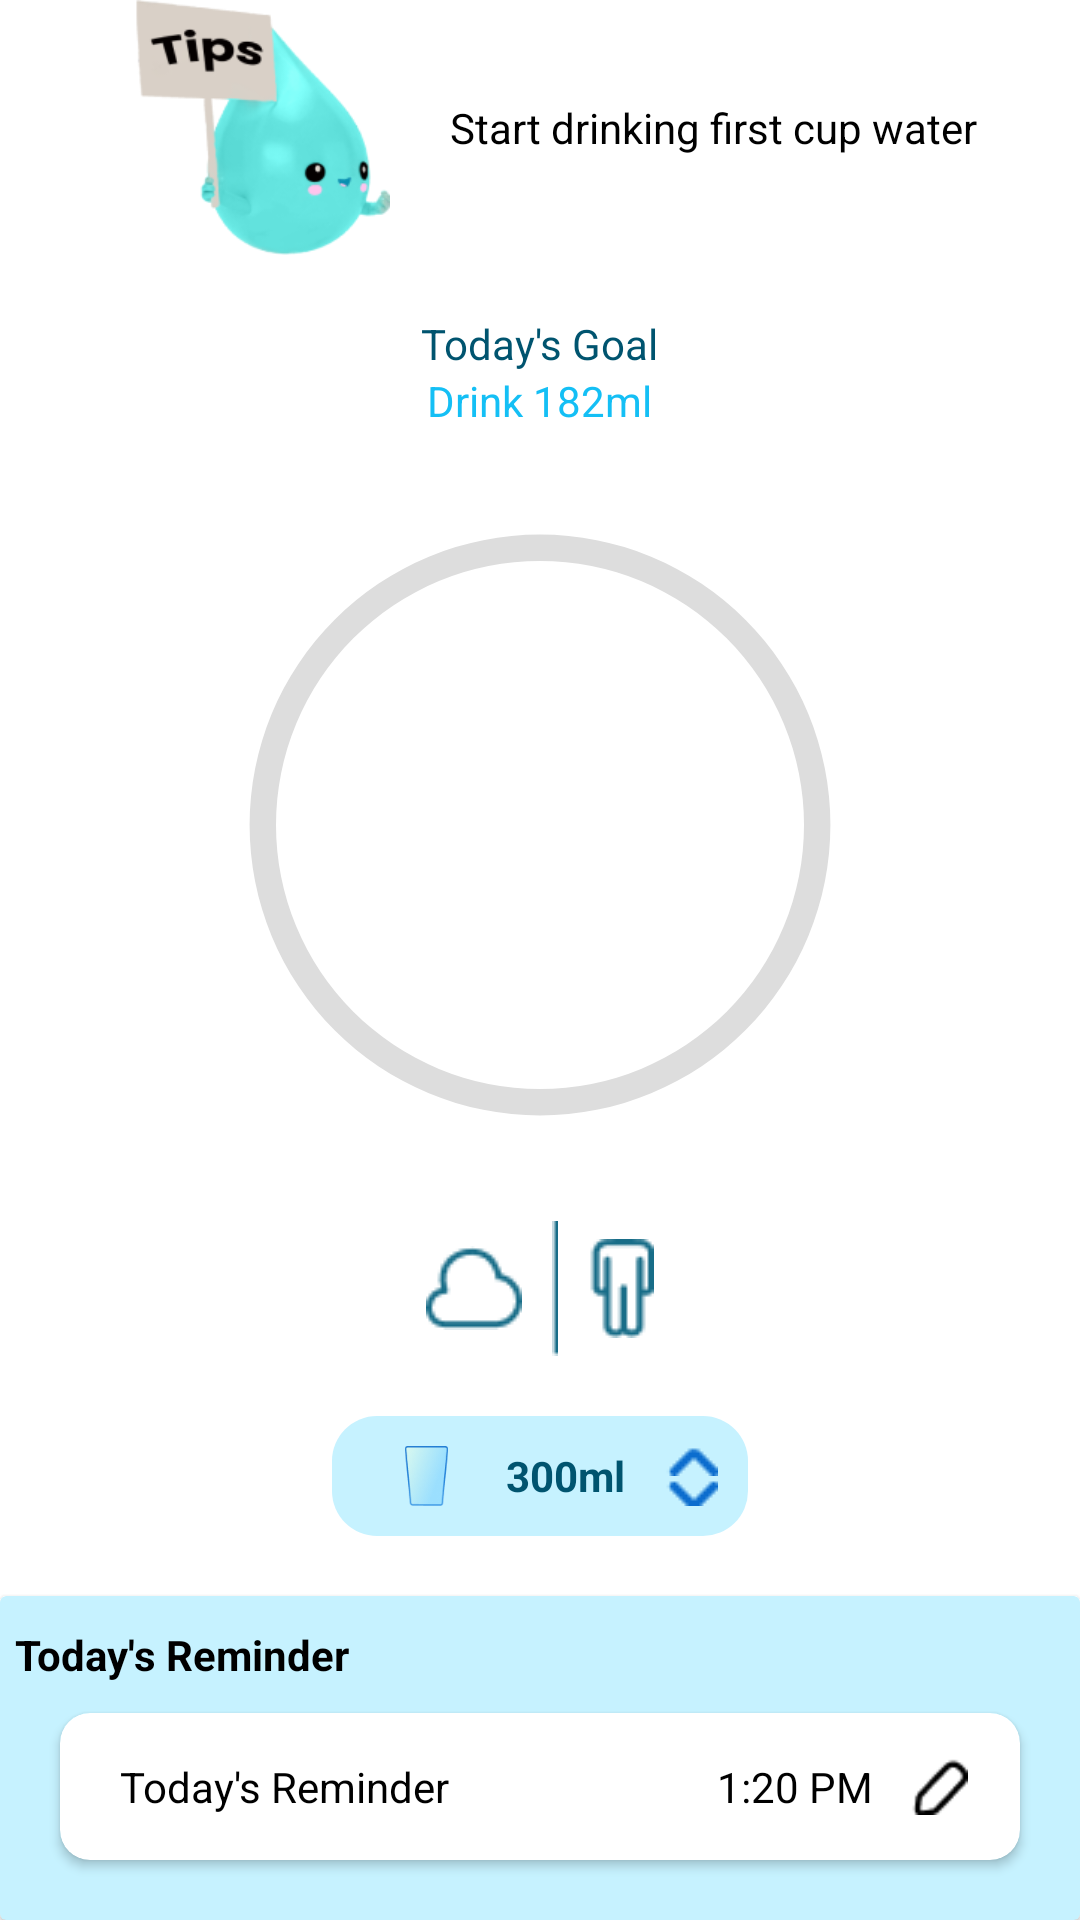

Point at icon controls on the screen. Image size 1080px x 1920px, points as (x=x, y=y).
bottal: (x=426, y=1476)
down arrow: (x=693, y=1493)
pencil: (x=940, y=1787)
physical activity: (x=622, y=1288)
up arrow: (x=693, y=1462)
weather: (x=474, y=1289)
